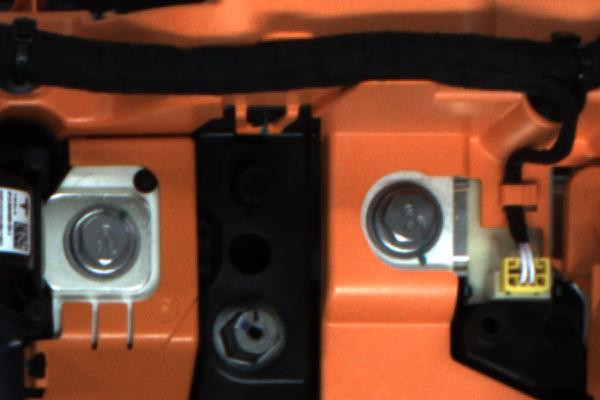nut_b: (363, 172, 448, 259), (60, 200, 141, 280)
